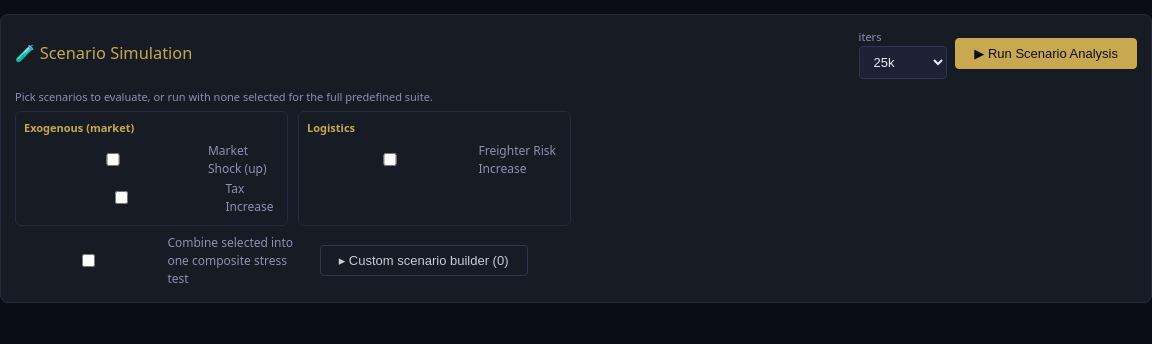
ScenarioPanel › warns when there is nothing to calculate
Check: the text "Market Shock (up)" is shown, box 24,140 -> 279,178
Click the button "▶ Run Scenario Analysis": [1046, 54] box 955,38 -> 1137,69
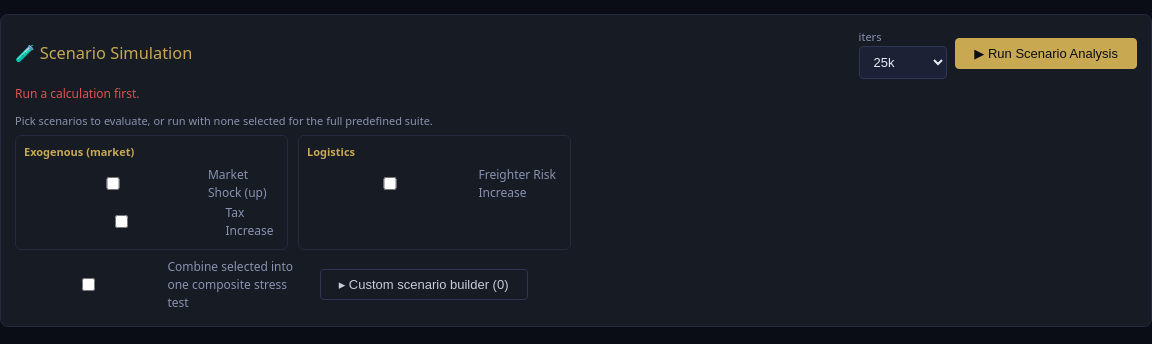
Check: the text "Run a calculation first." is shown, box 15,84 -> 140,102
